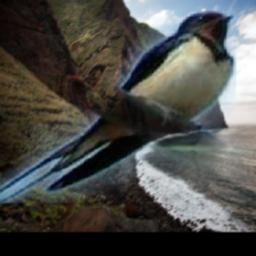Swallow: (0, 12, 235, 204)
